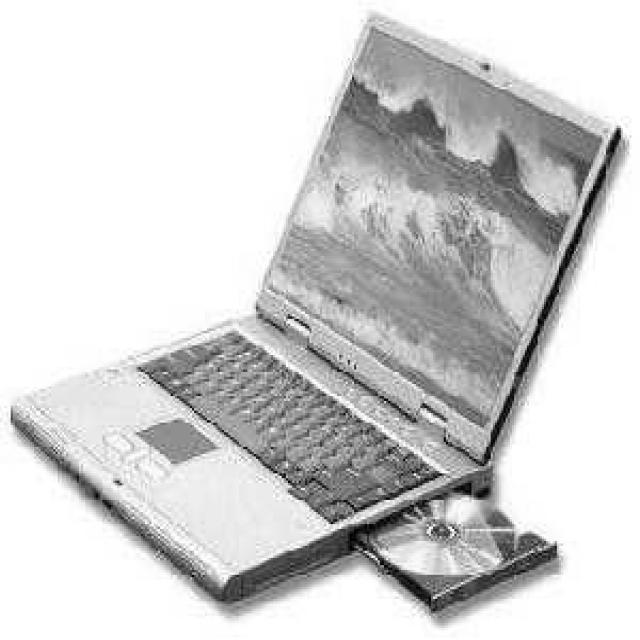laptop: (20, 19, 630, 606)
